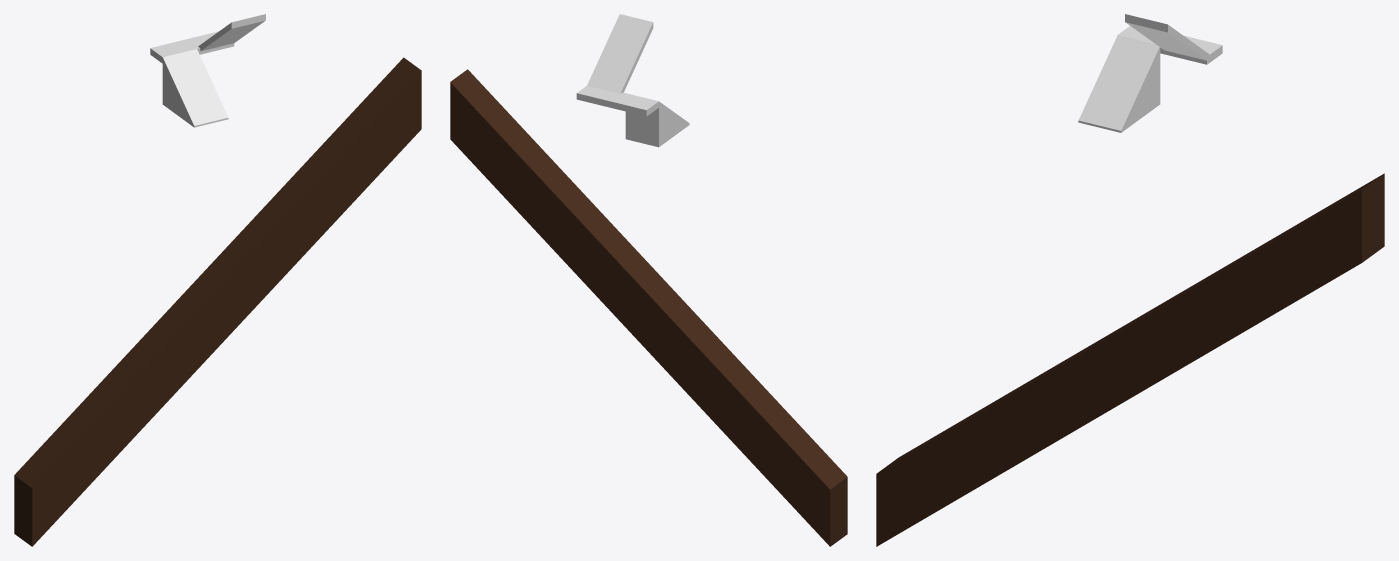
The model's file is patch_freelancerHouse_stairs.glb.
3 views of the same model, side by side, from view 1: azimuth 30°, elevation 25°; view 2: azimuth 150°, elevation 25°; view 3: azimuth 330°, elevation 25° (orthographic). The views are drawn at different scales.
Visible parts, largest first — view 1: Cube.898, Cube.1678, Cube.1679, Cube.139; view 2: Cube.898, Cube.1679, Cube.1678, Cube.139; view 3: Cube.898, Cube.1678, Cube.1679, Cube.139.
Part boxes in pixels (x1,y1,x2,y2): Cube.898: [14, 57, 421, 546]; Cube.1678: [162, 49, 228, 127]; Cube.1679: [198, 14, 265, 51]; Cube.139: [150, 31, 234, 63]; Cube.898: [450, 69, 847, 546]; Cube.1679: [587, 14, 653, 93]; Cube.1678: [625, 101, 689, 147]; Cube.139: [576, 86, 658, 116]; Cube.898: [876, 173, 1384, 546]; Cube.1678: [1078, 35, 1160, 132]; Cube.1679: [1125, 14, 1209, 60]; Cube.139: [1118, 26, 1222, 64].
Bounding box in the file's own units: 25 × 29.2 × 4.9.
